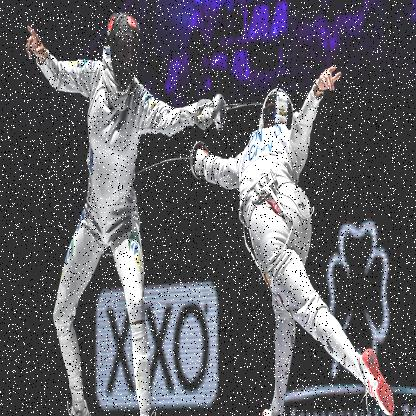fencer: (12, 8, 228, 408), (184, 62, 400, 414)
